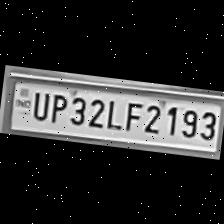1: (160, 102, 180, 136)
2: (138, 100, 162, 135), (84, 94, 106, 130)
3: (64, 91, 88, 126), (195, 106, 218, 141)
9: (176, 104, 200, 139)
F: (119, 98, 142, 133)
L: (102, 96, 124, 130)
P: (44, 90, 68, 124)
U: (26, 88, 50, 122)
